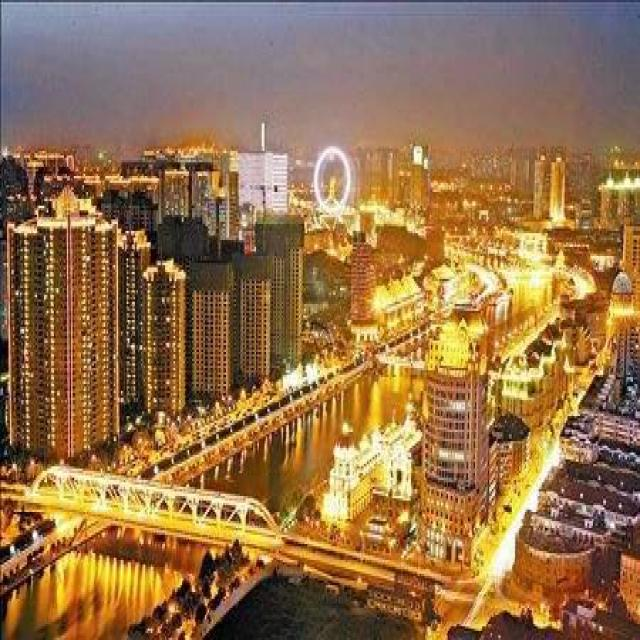other: (377, 214, 591, 461), (22, 448, 292, 590), (492, 469, 509, 580)
